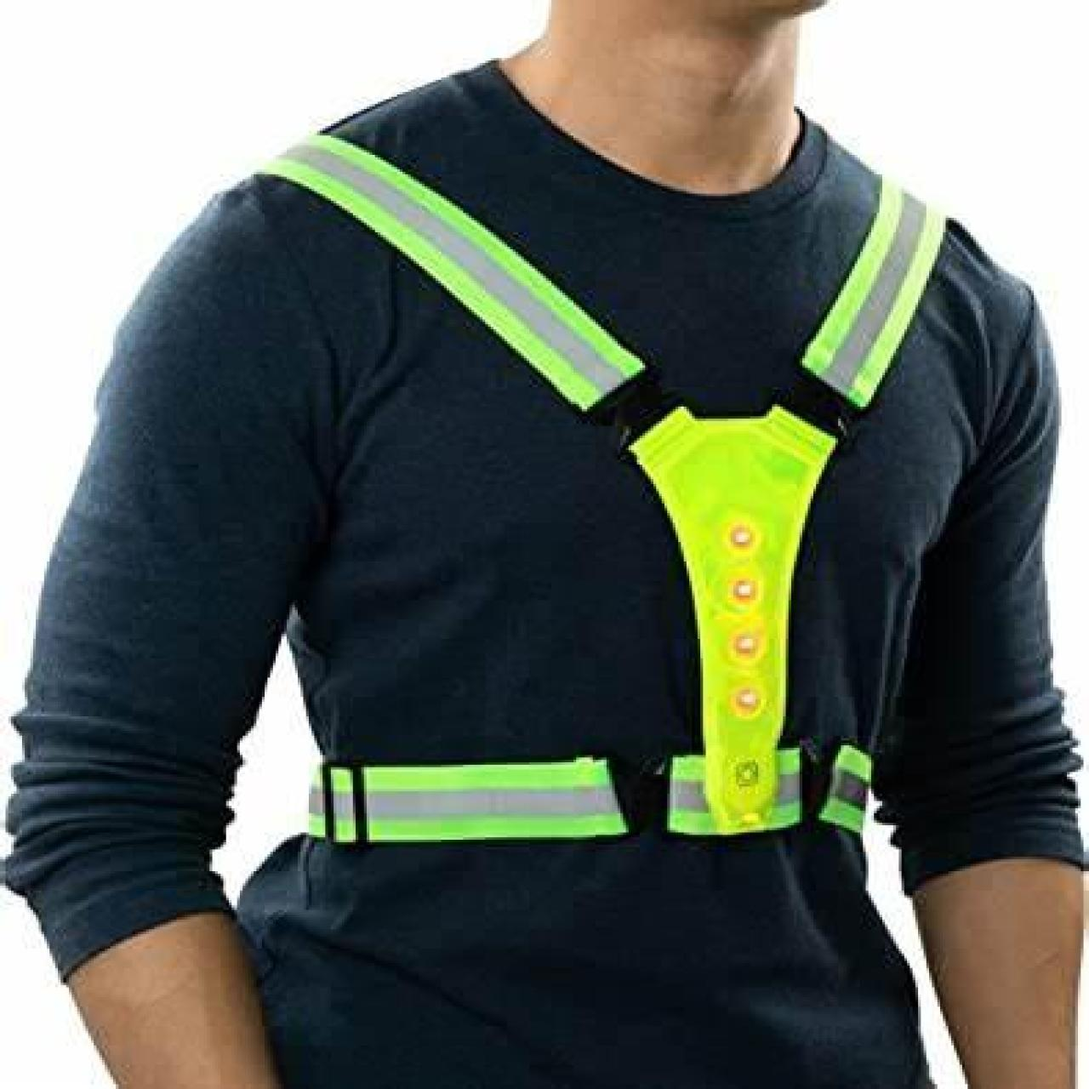NO_Safety_Vest: (228, 72, 965, 1012)
Person: (7, 0, 1089, 1089)
